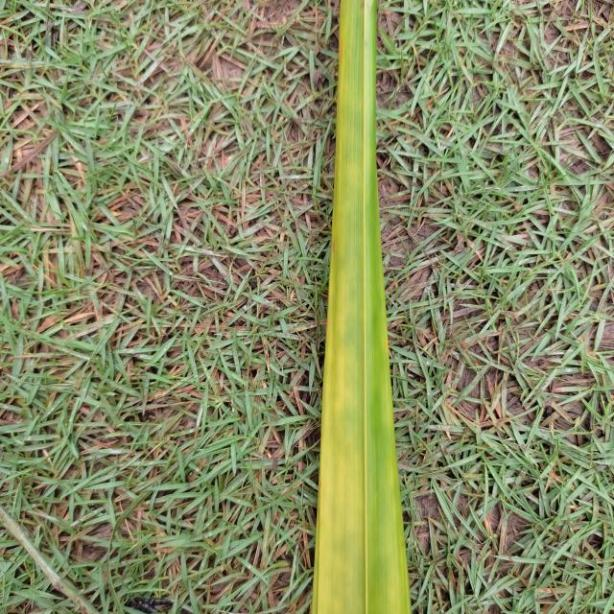nitrogen: (317, 0, 409, 614)
